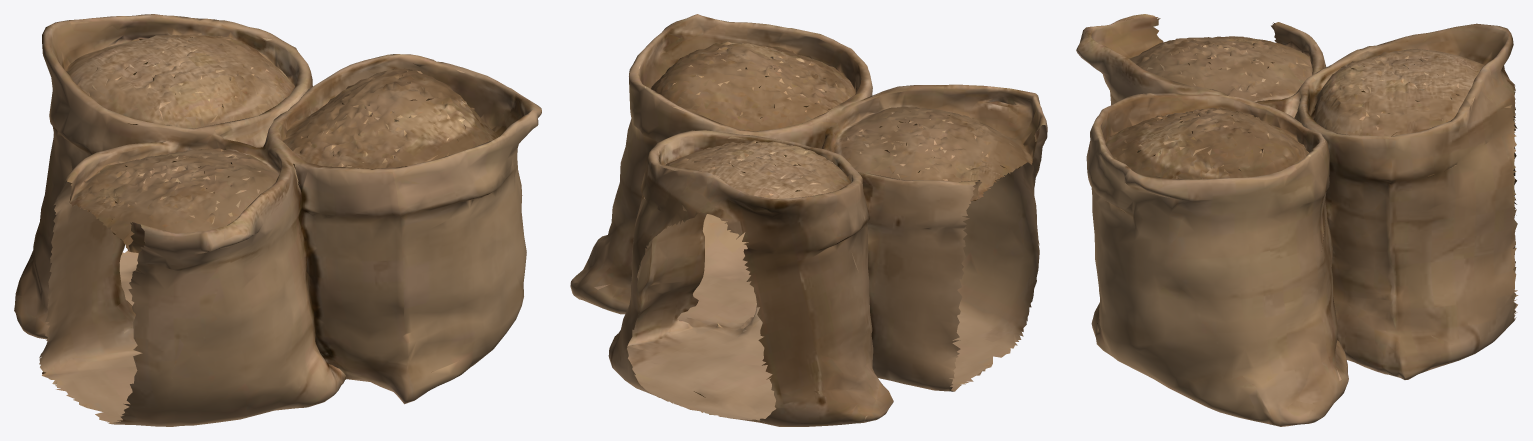
The model's file is SackPileOpen.glb.
3 renders of one model, left to right at view 1: azimuth 30°, elevation 25°; view 2: azimuth 150°, elevation 25°; view 3: azimuth 270°, elevation 25°, orthographic. The views are drawn at different scales.
Visible parts, largest first — view 1: SackPileOpen; view 2: SackPileOpen; view 3: SackPileOpen.
Boxes of the visible parts, box(x1,y1,x2,y2) form: SackPileOpen: box(14, 14, 541, 426); SackPileOpen: box(570, 14, 1047, 426); SackPileOpen: box(1076, 14, 1518, 426).
Bounding box in the file's own units: 1.74 × 0.986 × 1.6.
Materials: 1 (1 with a texture image).
